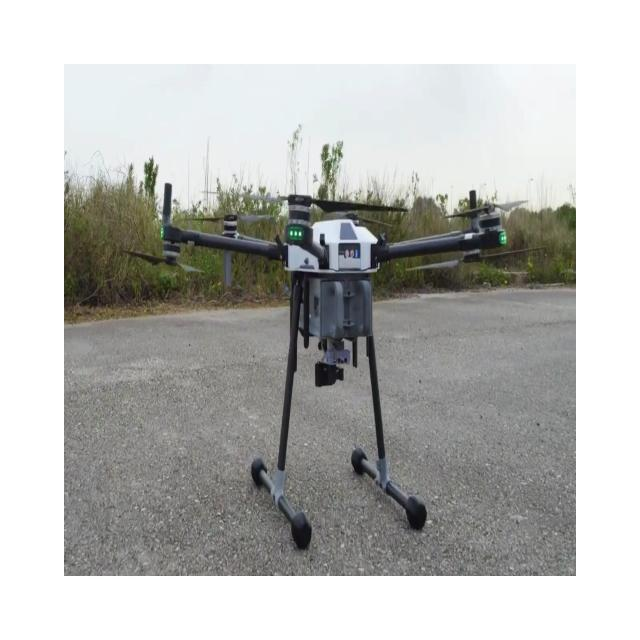drone: (120, 181, 545, 548)
